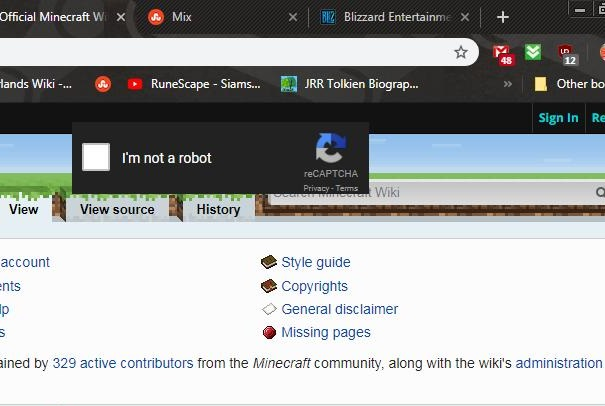captcha: (81, 142, 213, 171)
